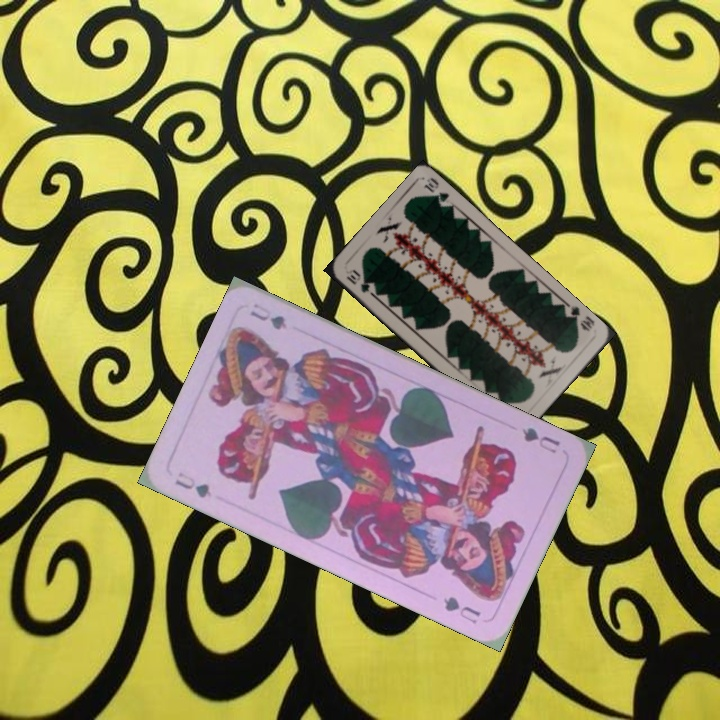G10: (560, 302, 598, 334), (342, 266, 373, 295)
GU: (518, 423, 563, 456), (171, 467, 214, 501)
